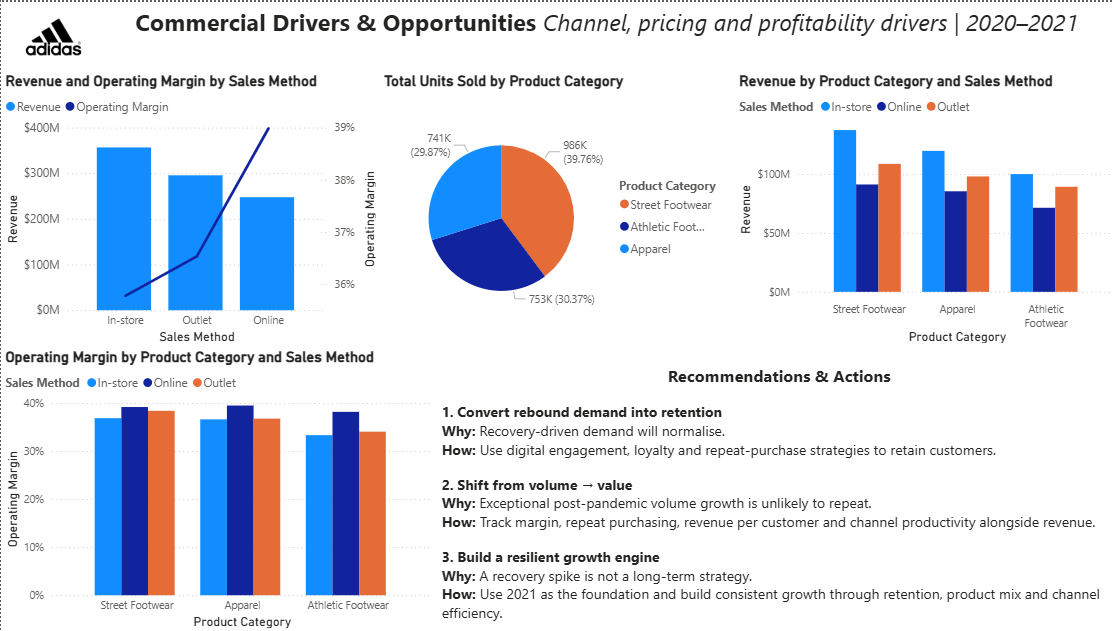

The page's visual inventory and layout, read from the dashboard file:
{"tool":"powerbi","page":{"name":"Commercial Drivers & Opportunities","canvas":[1280,720],"ordinal":3},"visuals":[{"type":"textbox","box":[148.3,0,1131.7,80],"z":0},{"type":"image","box":[0,0,120,80],"z":1000},{"type":"lineClusteredColumnComboChart","fields":{"Category":["adidas_sales.sales_method"],"Y":["adidas_sales.adidas Total Sales"],"Y2":["adidas_sales.adidas Operating Margin"]},"box":[0,80,433.3,315],"z":2000},{"type":"clusteredColumnChart","fields":{"Category":["adidas_sales.product_category"],"Y":["adidas_sales.adidas Total Sales"],"Series":["adidas_sales.sales_method"]},"box":[838.3,80,441.7,315],"z":3000},{"type":"clusteredColumnChart","fields":{"Category":["adidas_sales.product_category"],"Y":["adidas_sales.adidas Operating Margin"],"Series":["adidas_sales.sales_method"]},"box":[0,395,498.3,325],"z":4000},{"type":"pieChart","fields":{"Category":["adidas_sales.product_category"],"Y":["adidas_sales.Total Units Sold"]},"box":[433.3,80,393.3,315],"z":5000},{"type":"textbox","box":[498.3,410,781.7,310],"z":6000}]}

Visuals, with their boxes in screenshot pixels (x1, y1, x2, y2), scaled from the page's 1280x720 canvas onto the 1112x631 screenshot:
textbox: <region>129, 0, 1111, 70</region>
image: <region>0, 0, 104, 70</region>
lineClusteredColumnComboChart - adidas_sales.sales_method x adidas_sales.adidas Total Sales: <region>0, 70, 376, 346</region>
clusteredColumnChart - adidas_sales.product_category x adidas_sales.adidas Total Sales: <region>728, 70, 1111, 346</region>
clusteredColumnChart - adidas_sales.product_category x adidas_sales.adidas Operating Margin: <region>0, 346, 433, 630</region>
pieChart - adidas_sales.product_category x adidas_sales.Total Units Sold: <region>376, 70, 718, 346</region>
textbox: <region>433, 359, 1111, 630</region>
